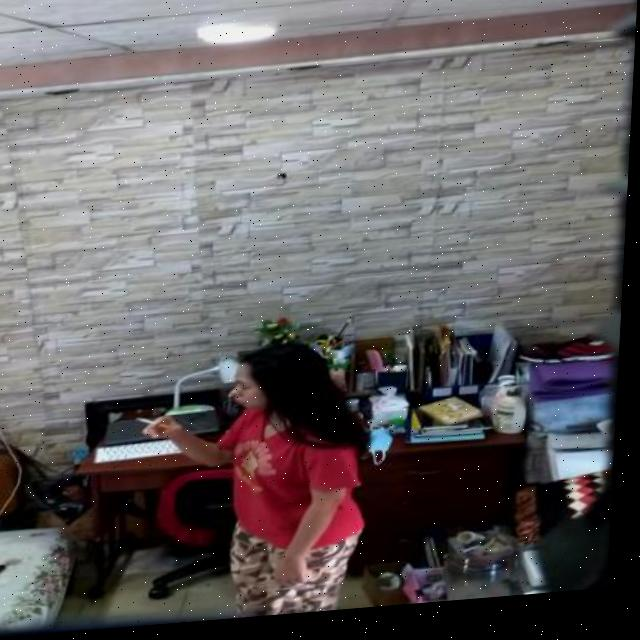cigarette: (139, 418, 175, 433)
